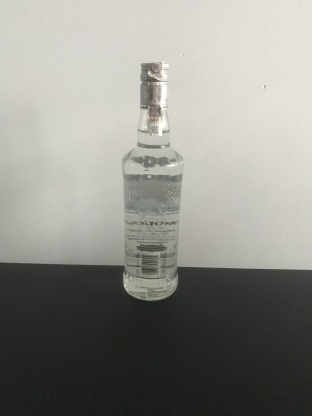nakretka: (138, 60, 170, 110)
